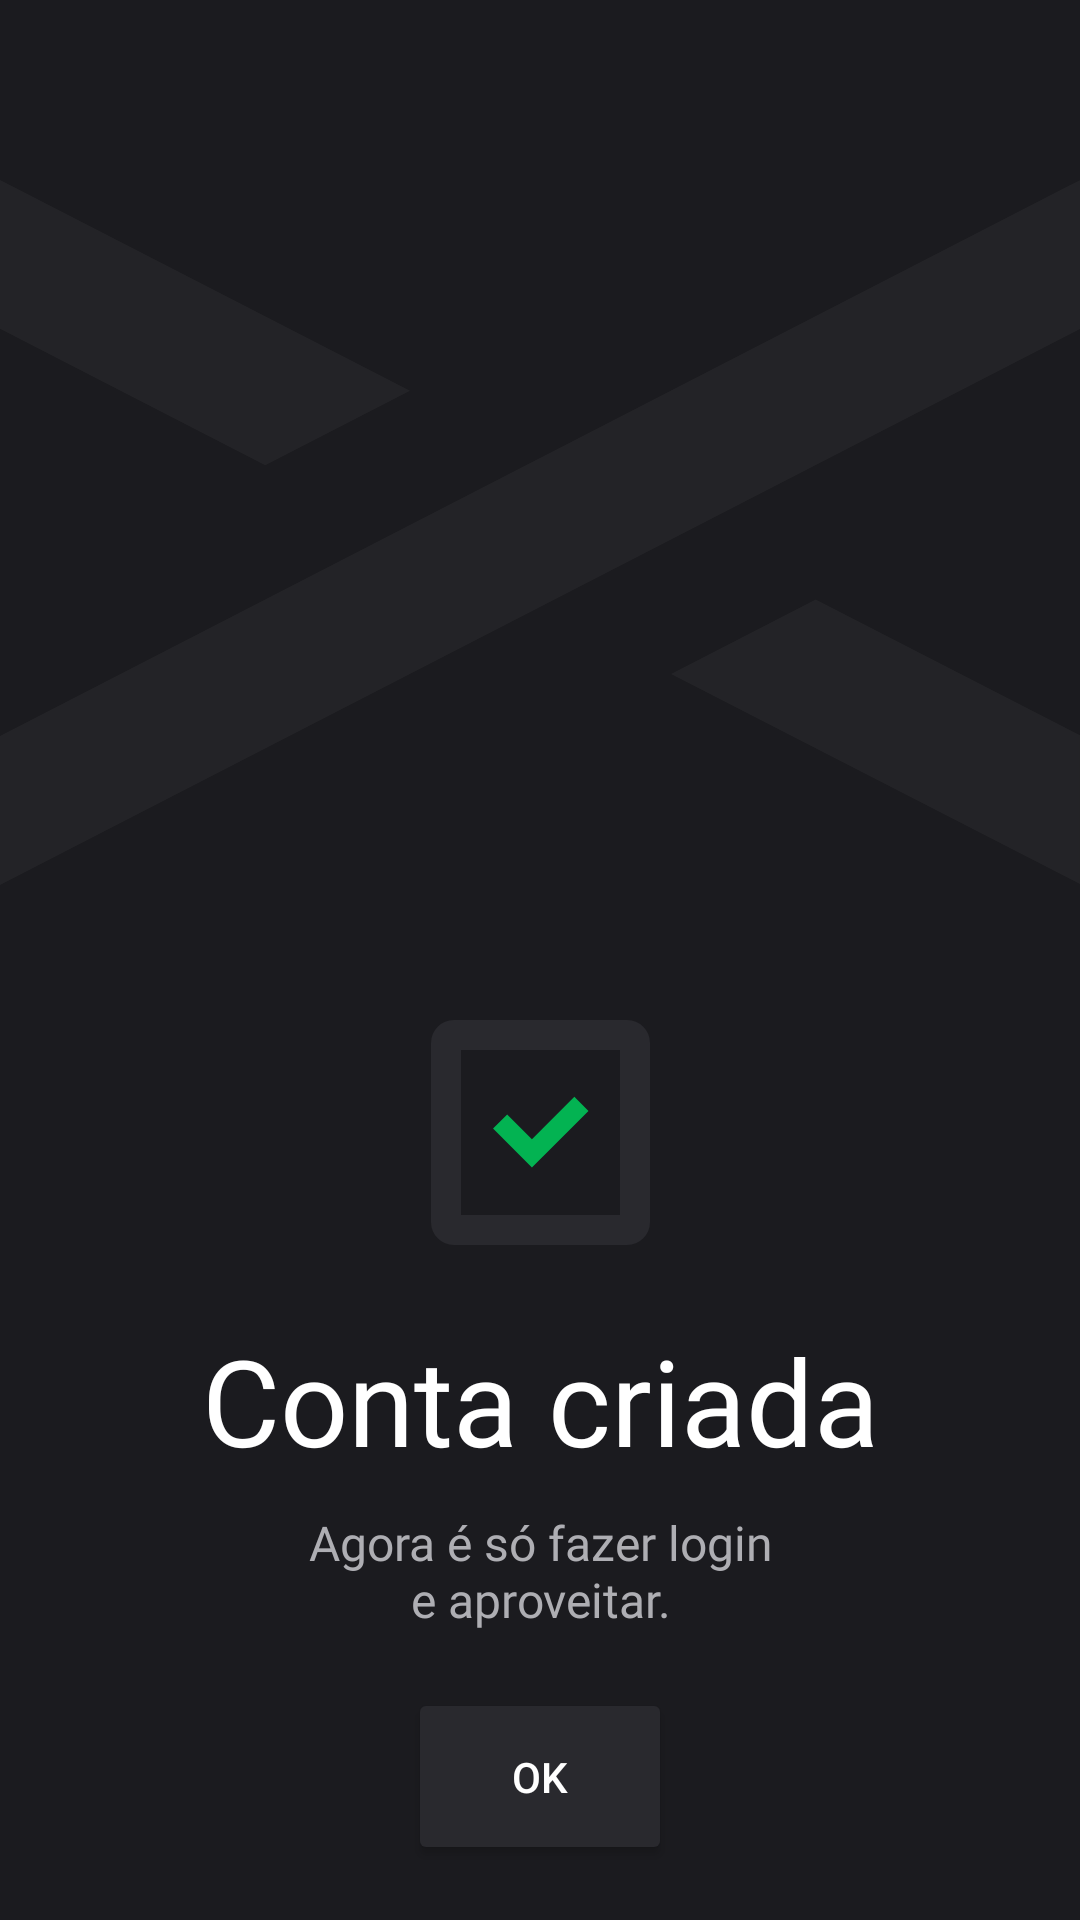

Icons on this 1080px×1920px Android screen, each with its box as (x1, y1, x2, y2):
success check: (493, 1097, 588, 1168)
